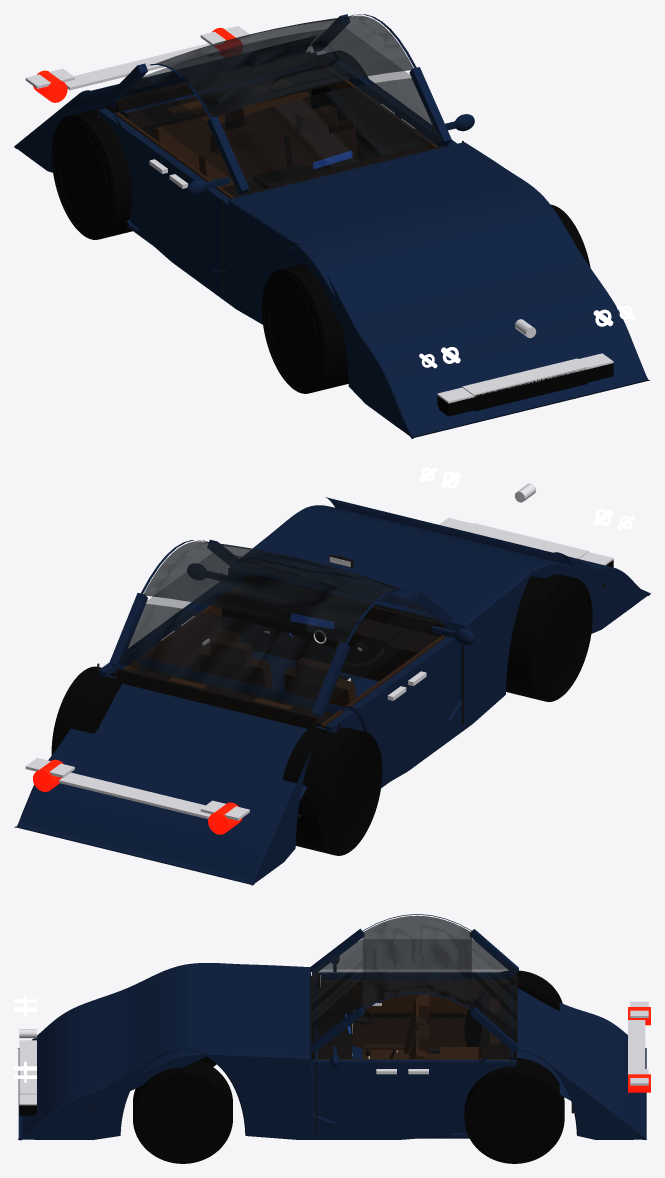
3 renders of one model, top to bottom at view 1: azimuth 30°, elevation 25°; view 2: azimuth 150°, elevation 25°; view 3: azimuth 270°, elevation 25°, orthographic. The views are drawn at different scales.
Visible parts, largest first — view 1: BodyShell, Wheel (×3), Windshield, PanoramicRoof, DoorOuter_-1, ParcelShelf, SideWin_-1, InnerDoorCard_1, RearWindow, RearBulkhead, SeatBackR_1, SeatBackF_1 (+17 smaller); view 2: BodyShell, Wheel (×3), PanoramicRoof, RearWindow, DashMain, Firewall, DoorOuter_-1, SideWin_-1, InnerDoorCard_1, RearBulkhead, Windshield, RearChrome (+15 smaller); view 3: BodyShell, Wheel (×3), PanoramicRoof, InnerDoorCard_-1, DoorOuter_1, SideWin_1, Windshield, RearWindow, DashMain, ParcelShelf, DoorSill_1, DoorSill_-1 (+11 smaller).
Boxes of the visible parts, x1=… form: BodyShell: x1=14, y1=47, x2=649, y2=438; Wheel (×3): x1=51, y1=51, x2=368, y2=393; Windshield: x1=221, y1=78, x2=442, y2=187; PanoramicRoof: x1=150, y1=15, x2=413, y2=117; DoorOuter_-1: x1=99, y1=113, x2=227, y2=270; ParcelShelf: x1=126, y1=68, x2=335, y2=130; SideWin_-1: x1=120, y1=76, x2=232, y2=179; InnerDoorCard_1: x1=321, y1=63, x2=437, y2=154; RearWindow: x1=130, y1=28, x2=340, y2=90; RearBulkhead: x1=116, y1=52, x2=316, y2=136; SeatBackR_1: x1=237, y1=91, x2=310, y2=163; SeatBackF_1: x1=283, y1=119, x2=357, y2=167; BodyShell: x1=14, y1=497, x2=650, y2=885; Wheel (×3): x1=51, y1=574, x2=592, y2=855; PanoramicRoof: x1=144, y1=541, x2=407, y2=643; RearWindow: x1=119, y1=603, x2=336, y2=710; DashMain: x1=222, y1=589, x2=439, y2=670; Firewall: x1=244, y1=575, x2=444, y2=681; DoorOuter_-1: x1=326, y1=640, x2=461, y2=788; SideWin_-1: x1=328, y1=602, x2=440, y2=702; InnerDoorCard_1: x1=115, y1=585, x2=240, y2=676; RearBulkhead: x1=116, y1=668, x2=316, y2=728; Windshield: x1=216, y1=553, x2=427, y2=612; RearChrome: x1=59, y1=772, x2=210, y2=818; BodyShell: x1=18, y1=963, x2=646, y2=1140; Wheel (×3): x1=133, y1=970, x2=564, y2=1163; PanoramicRoof: x1=362, y1=915, x2=471, y2=1008; InnerDoorCard_-1: x1=321, y1=980, x2=509, y2=1049; DoorOuter_1: x1=312, y1=1064, x2=516, y2=1138; SideWin_1: x1=323, y1=1016, x2=506, y2=1046; Windshield: x1=312, y1=939, x2=362, y2=1042; RearWindow: x1=472, y1=939, x2=516, y2=1042; DashMain: x1=317, y1=985, x2=352, y2=1059; ParcelShelf: x1=482, y1=985, x2=511, y2=1058; DoorSill_1: x1=312, y1=1059, x2=516, y2=1064; DoorSill_-1: x1=312, y1=972, x2=516, y2=976.
Size of what is drawn, in the model's own units: 2.27 by 1.57 by 5.53.
Materials: 19 (4 with a texture image).
